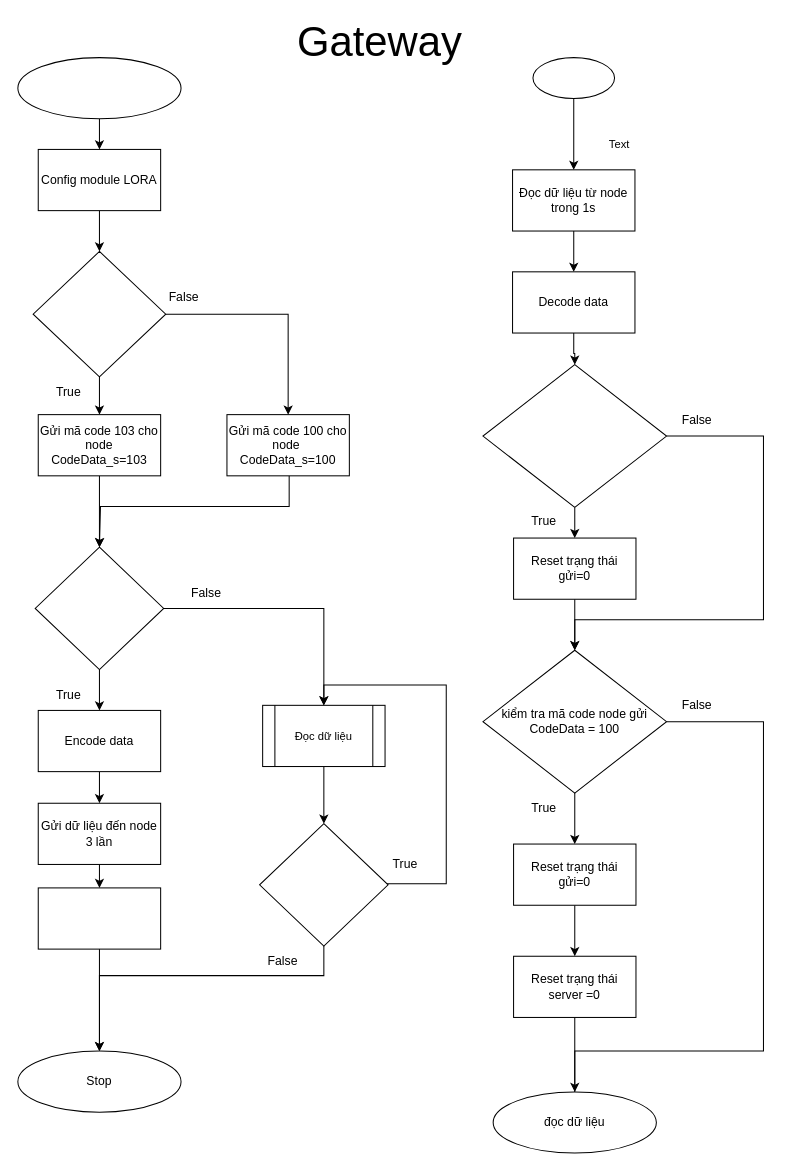
Some shapes in this 789 by 1171 pixel diagram are drawn without their labels. The shapes that lost their labels are listed below. From the top down, each one's centre as x and y in pixels, then its label:
At (x=99, y=88): "Begin".
At (x=573, y=77): "đọc dư liệu".
At (x=99, y=313): "Trạng thái server =0".
At (x=574, y=435): "kiểm tra mã code node gửi CodeData = 101".
At (x=99, y=608): "Trạng thái gửi=0".
At (x=323, y=884): "thời gian đọc dữ liệu <1 giây".
At (x=99, y=918): "Trạng thái gửi =1".
